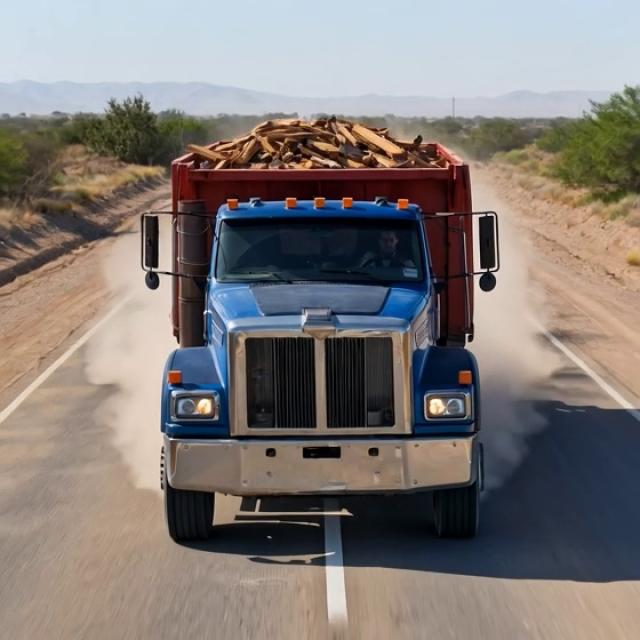Box: (160, 108, 481, 188)
Truck: (126, 96, 519, 538)
